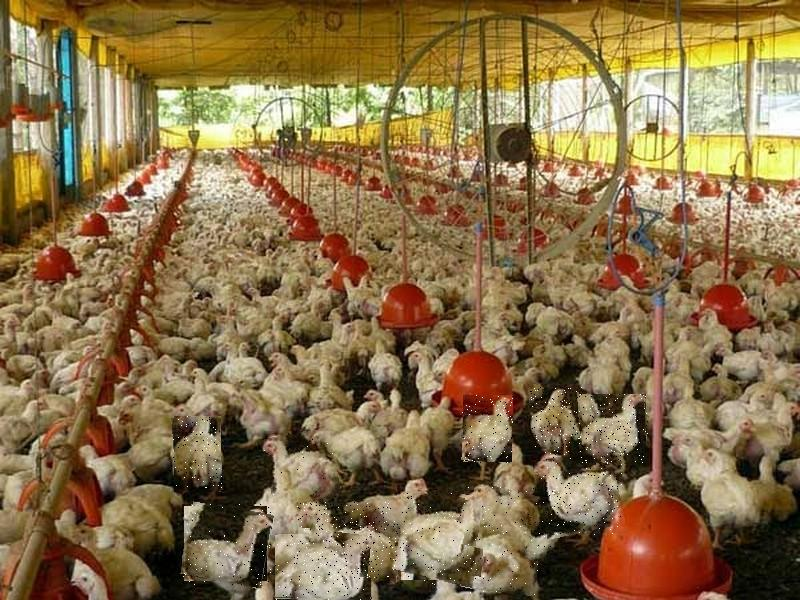chicken: (397, 492, 487, 586), (296, 503, 404, 580), (536, 450, 622, 535), (183, 505, 272, 586), (466, 487, 557, 559), (275, 534, 373, 600), (264, 432, 338, 501), (579, 395, 649, 465), (469, 535, 539, 595), (173, 416, 222, 493), (462, 395, 513, 463), (530, 388, 582, 449)
